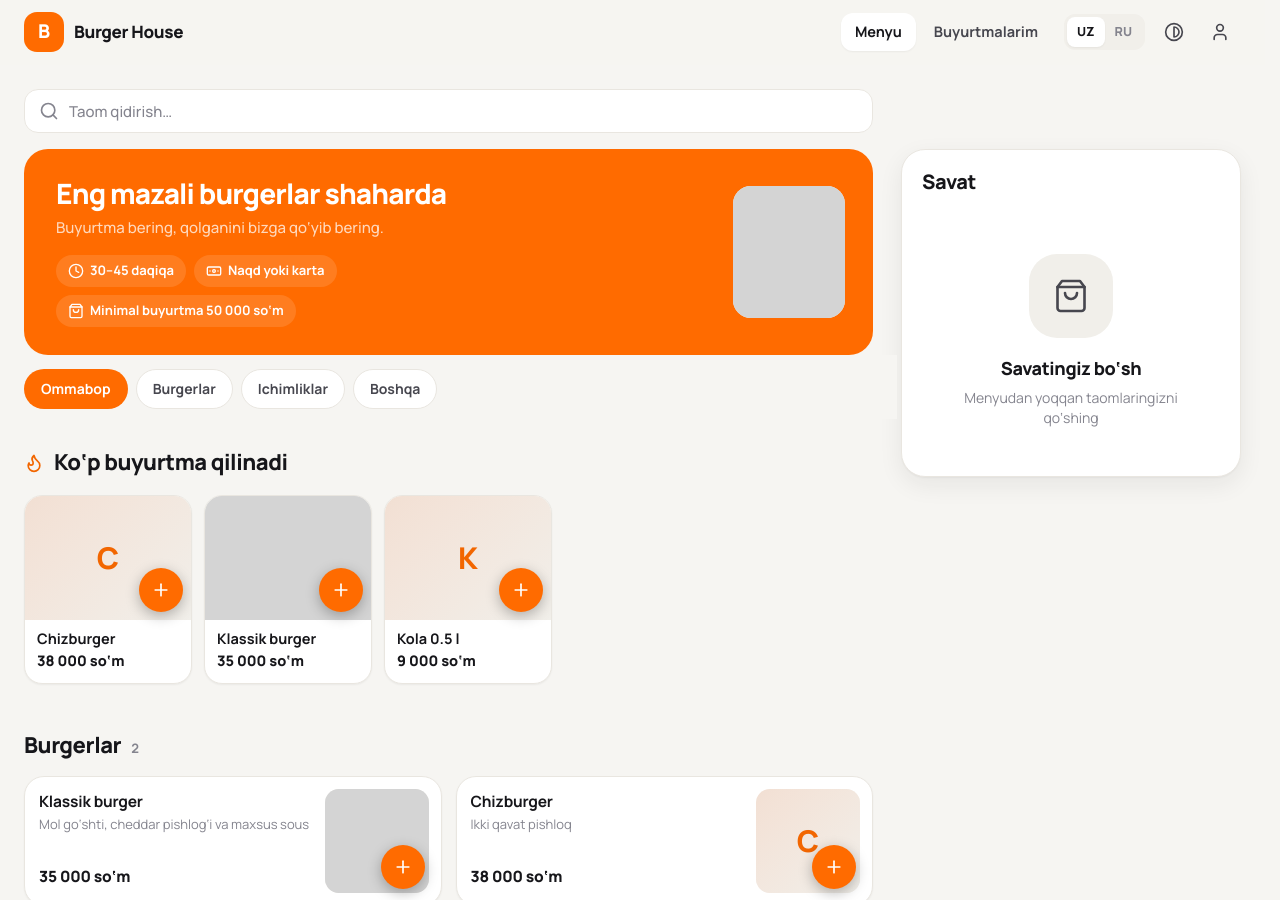
Test: catalog › searches by name in both languages and shows an empty state
In the search field labelled "Taom qidirish…": {"x": 448, "y": 111} [24,89,873,133], type "чизбургер"
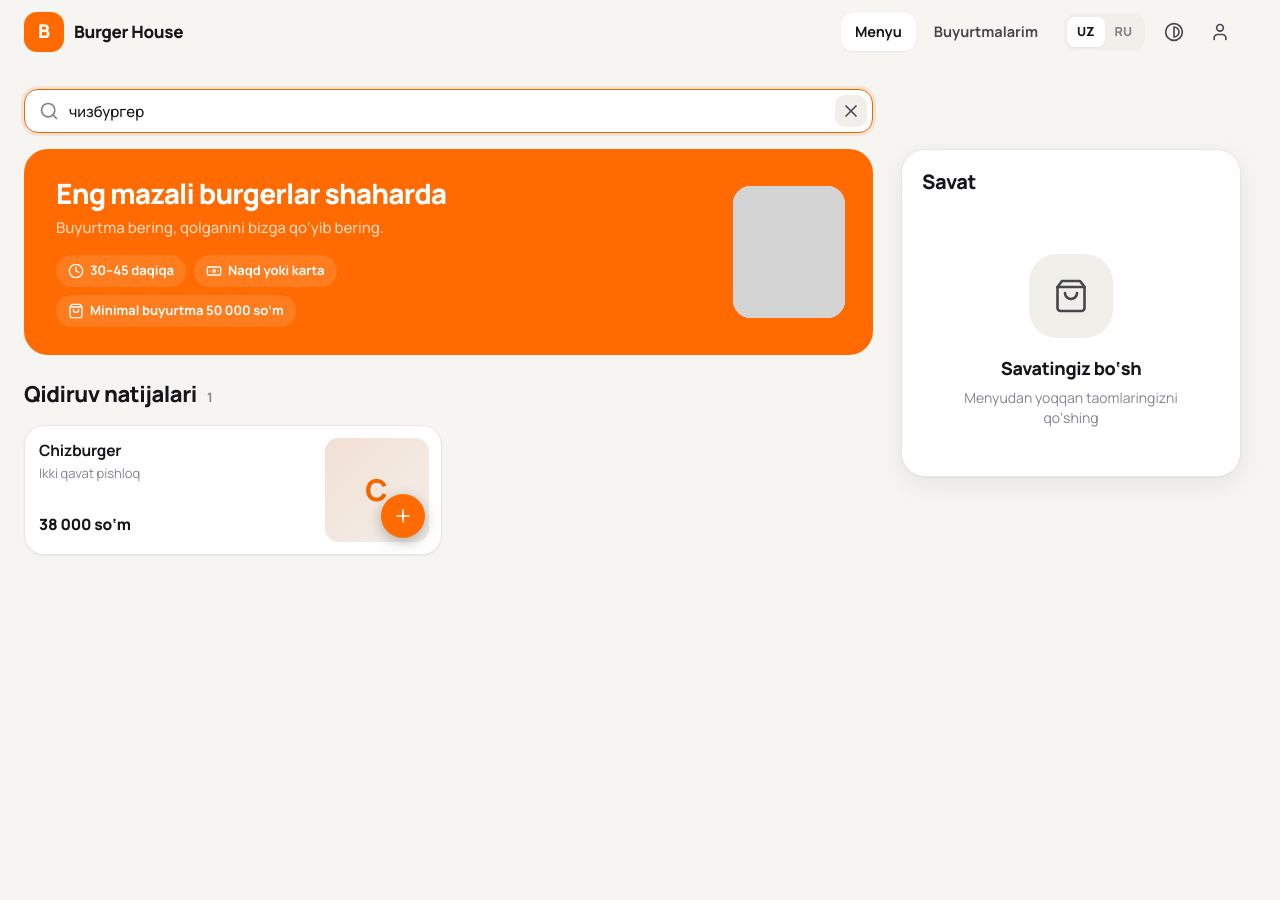
Now the heading "Qidiruv natijalari 1" is shown, box [24,379,213,409]
Now the navigation bar "Kategoriyalar" is gone
Replace the text in the search field named "Taom qidirish…" with "pitsa": {"x": 448, "y": 111} [24,89,873,133]
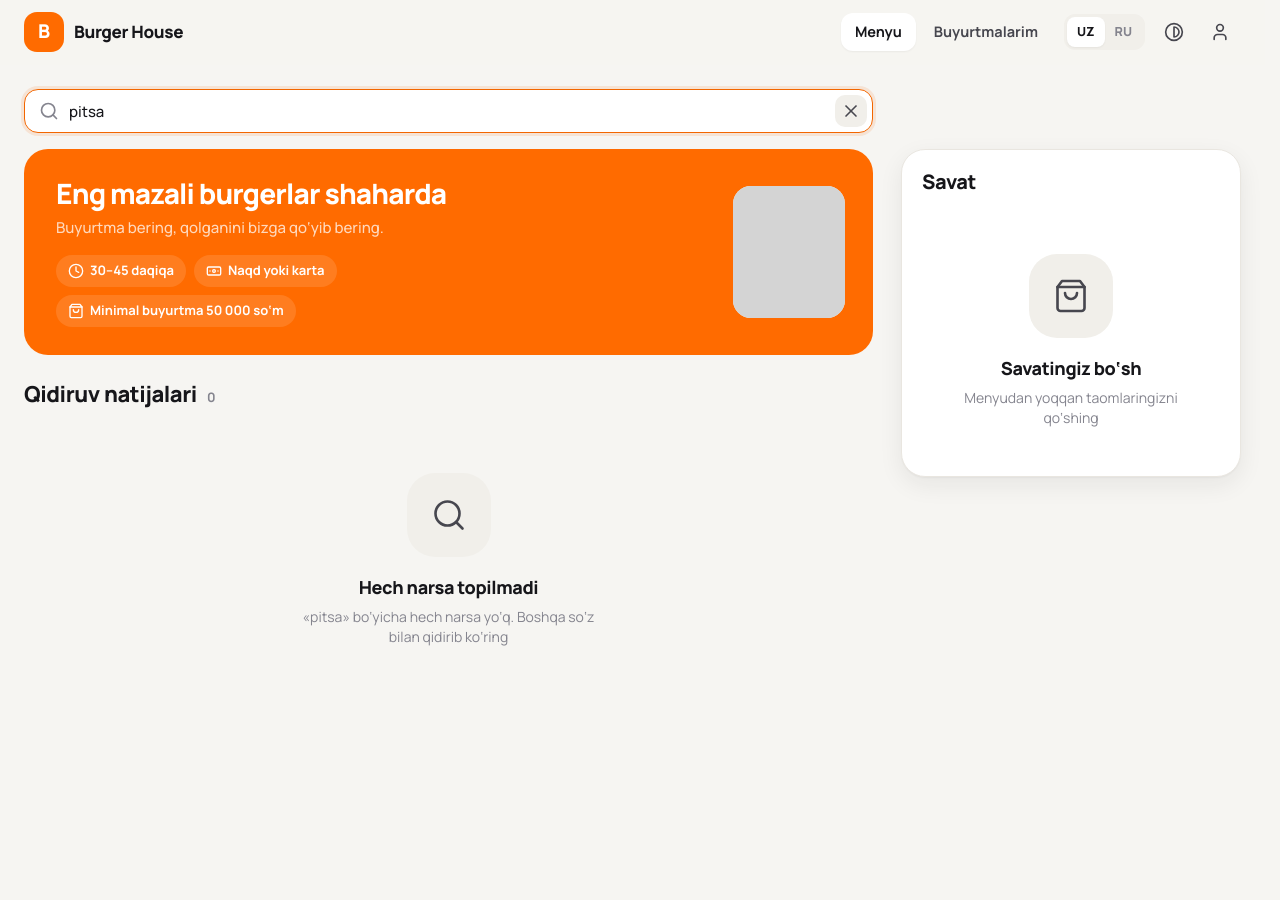
Now the heading "Hech narsa topilmadi" is shown, box [359,574,538,598]
Click the button named "Qidiruvni tozalash": {"x": 851, "y": 111} [835,95,867,127]
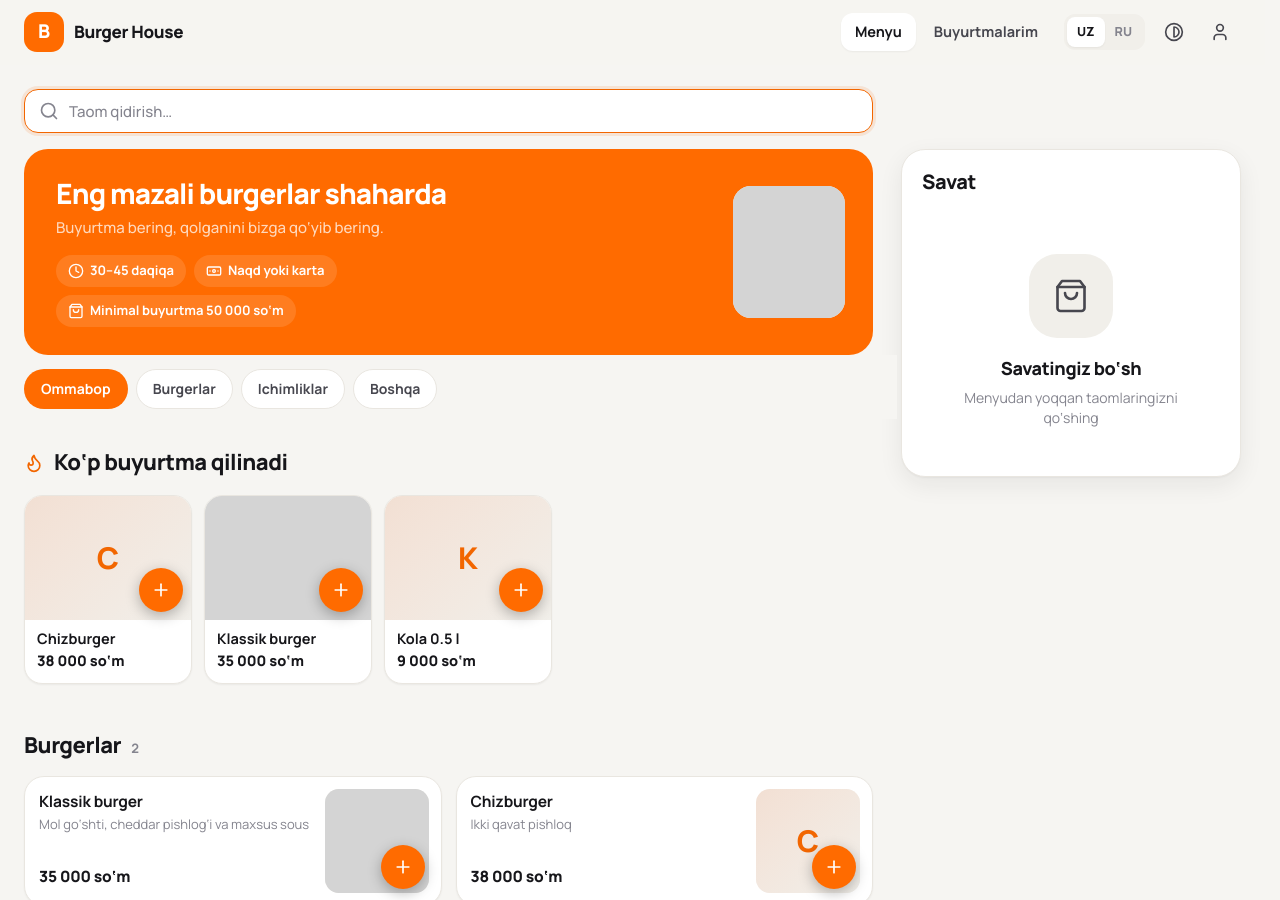
Now the heading "Ko‘p buyurtma qilinadi" is shown, box [24,447,288,477]
